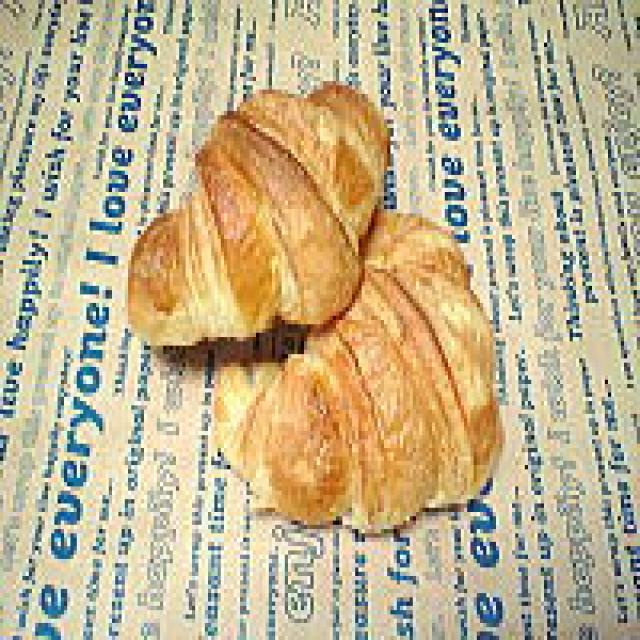Croissant: (208, 208, 508, 522), (127, 74, 396, 350)
